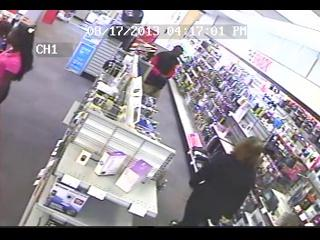Normal: (178, 136, 266, 226), (0, 15, 38, 104), (142, 46, 184, 98)
